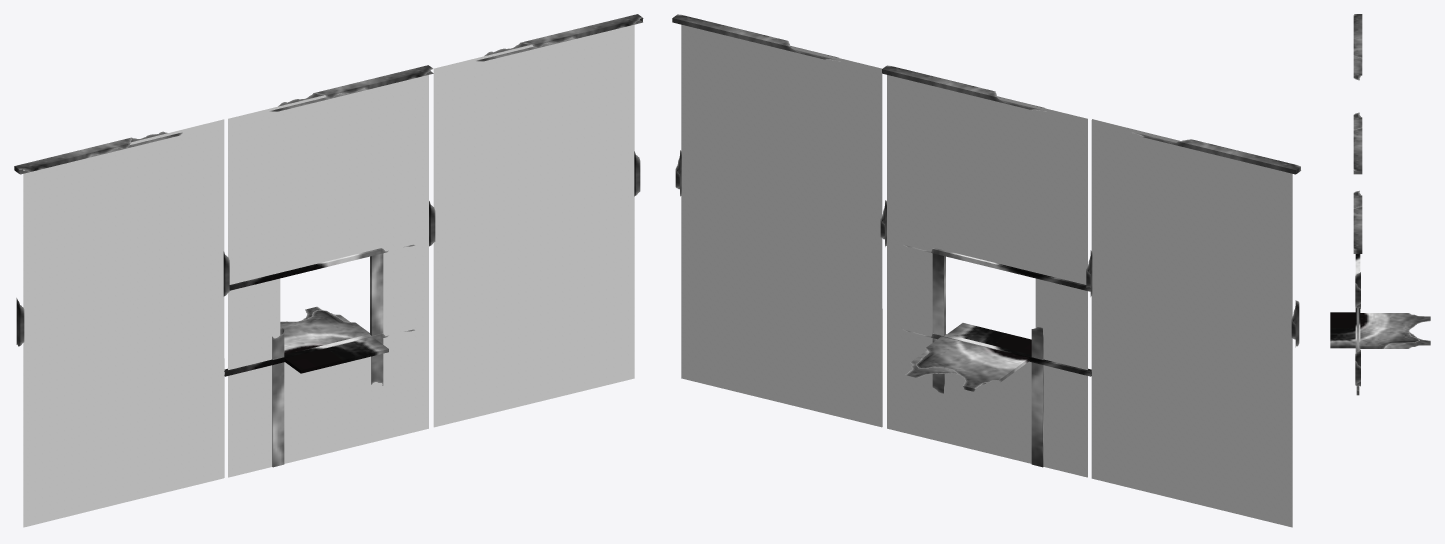
Rendered from zalm.FBX.
3 views of the same model, side by side, from view 1: azimuth 30°, elevation 25°; view 2: azimuth 150°, elevation 25°; view 3: azimuth 270°, elevation 25° (orthographic). The views are drawn at different scales.
Parts seen in each view (by area): view 1: Model, headusOBJexport, Object02; view 2: Model, headusOBJexport, Object02; view 3: headusOBJexport, Object02.
Boxes of the visible parts, x1,y1,x2,y2 form: Model: (23,24,634,527); headusOBJexport: (14,14,643,467); Object02: (280,306,369,354); Model: (681,24,1292,527); headusOBJexport: (672,14,1300,467); Object02: (905,336,1029,391); headusOBJexport: (1330,14,1362,395); Object02: (1360,313,1430,348).
Size of the model in its own units: 173 by 31.02 by 95.53.
